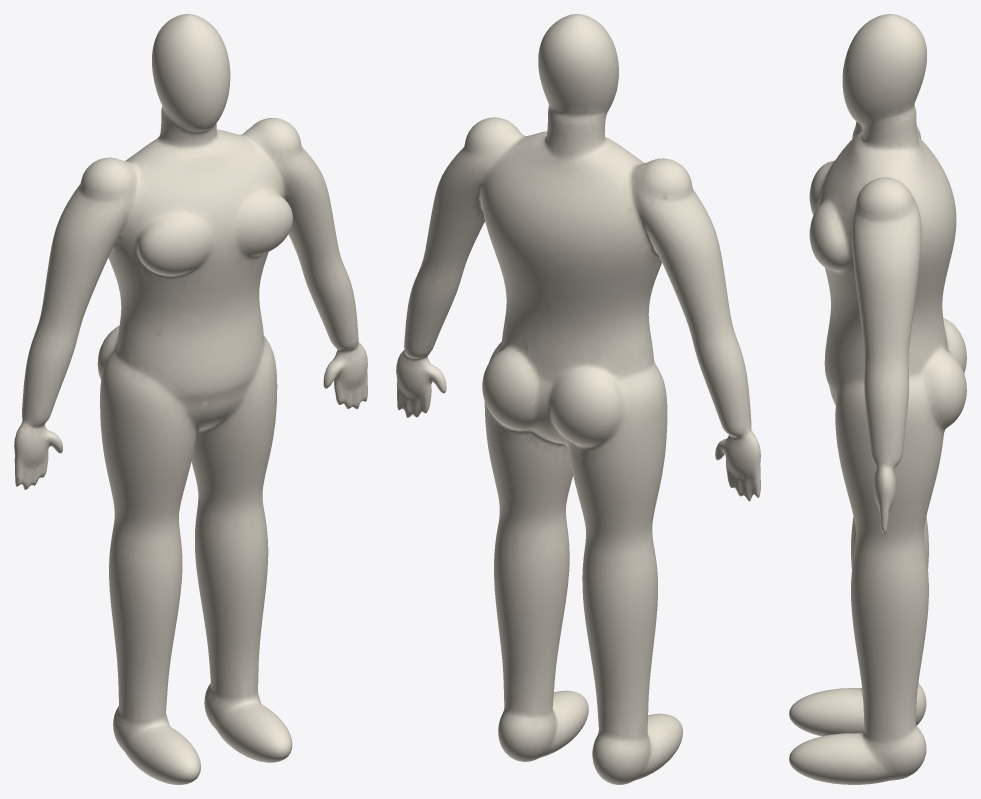
File: woobi_male_mannequin.glb
3 renders of one model, left to right at view 1: azimuth 30°, elevation 25°; view 2: azimuth 150°, elevation 25°; view 3: azimuth 270°, elevation 25°, orthographic. The views are drawn at different scales.
Visible parts, largest first — view 1: Woobi_Male_Mannequin_Body; view 2: Woobi_Male_Mannequin_Body; view 3: Woobi_Male_Mannequin_Body.
Part boxes in pixels (x1,y1,x2,y2): Woobi_Male_Mannequin_Body: [14, 14, 367, 784]; Woobi_Male_Mannequin_Body: [396, 14, 760, 784]; Woobi_Male_Mannequin_Body: [789, 14, 966, 784].
Size of the model in its own units: 0.9022 by 1.8 by 0.39.
